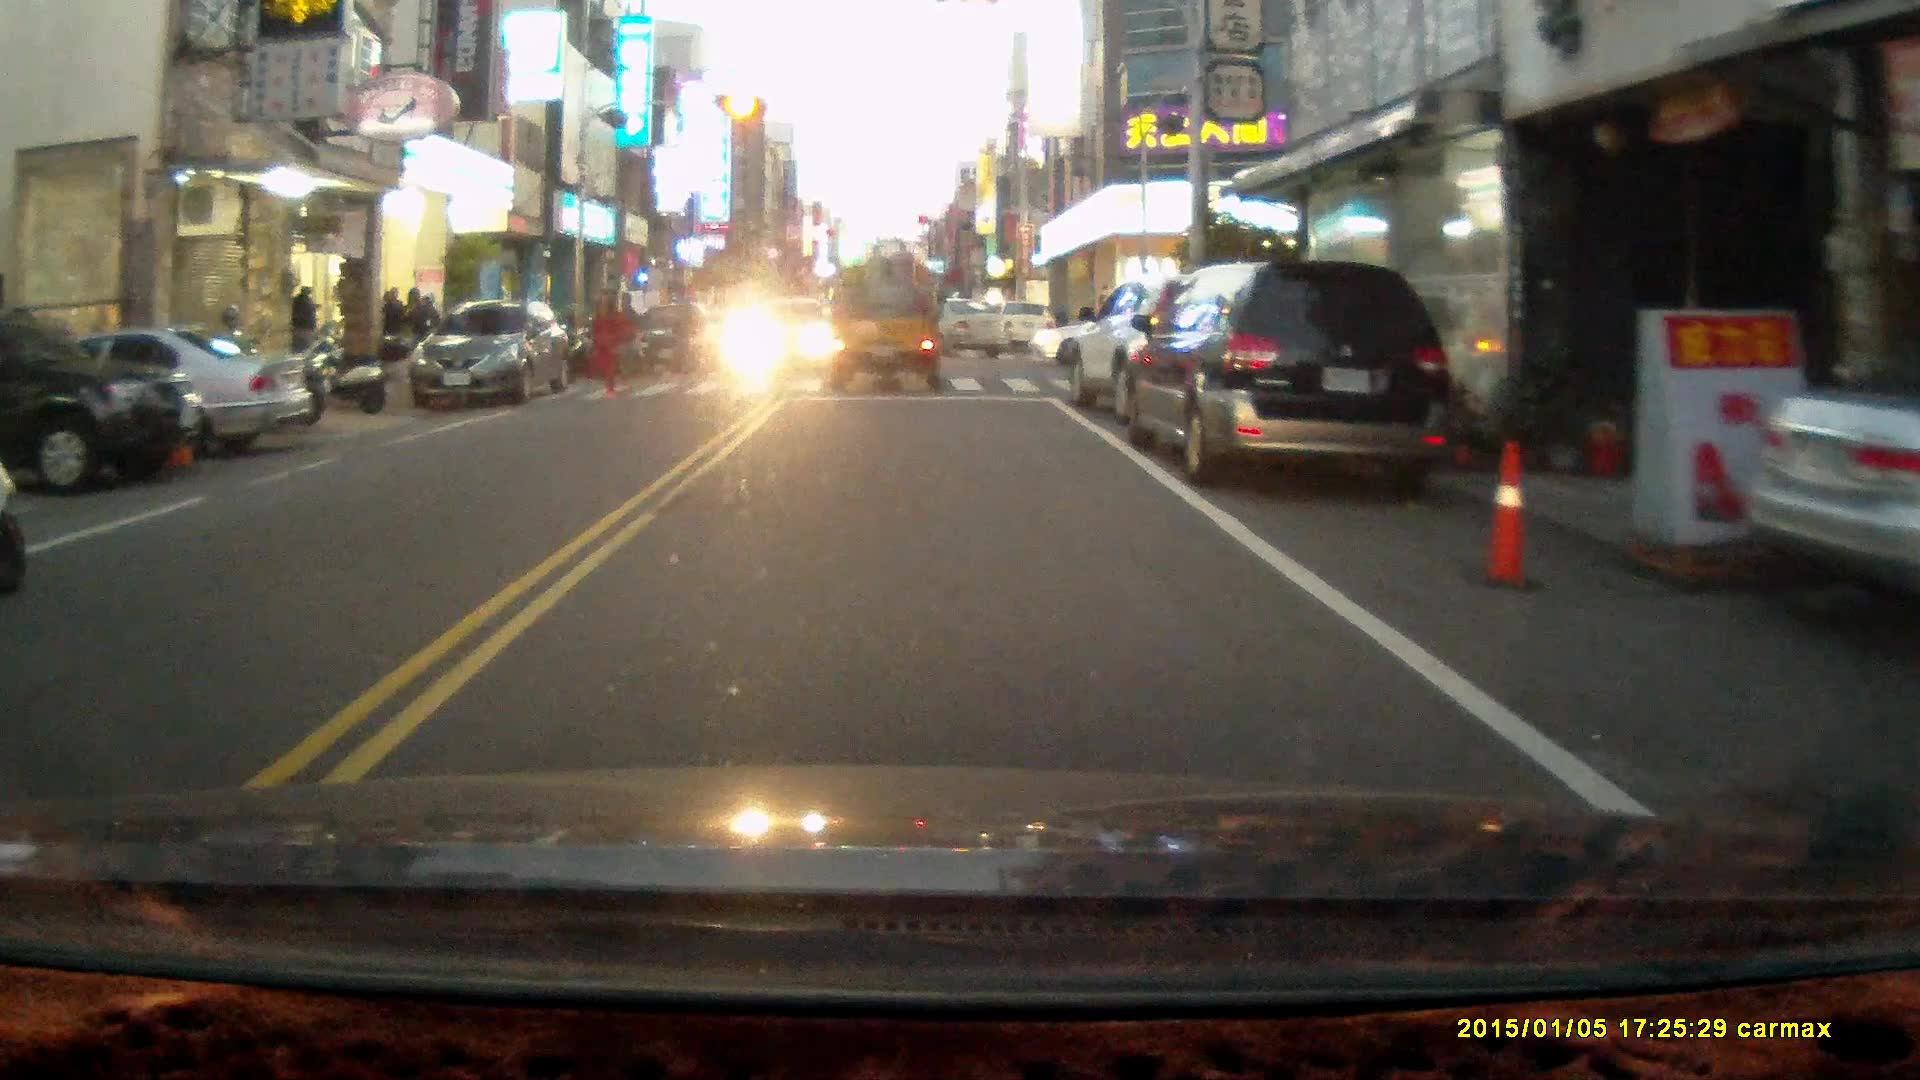pedestrian: (584, 284, 630, 394), (287, 281, 320, 369)
vehicle: (1113, 259, 1456, 483), (3, 327, 315, 463), (1, 303, 209, 501), (1745, 361, 1920, 574), (1064, 278, 1305, 430), (819, 235, 953, 391), (412, 302, 575, 409), (891, 300, 1016, 362), (723, 294, 826, 367), (628, 306, 723, 374)
